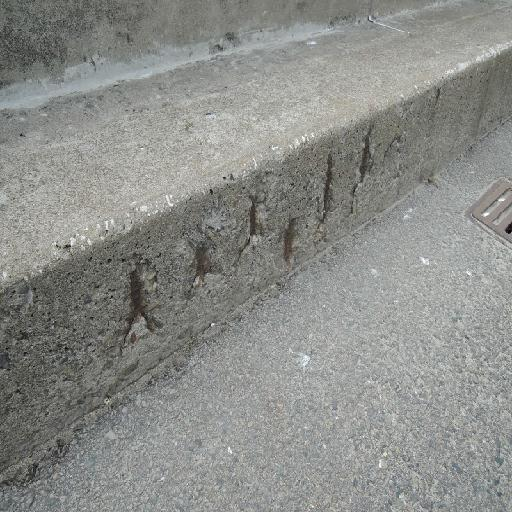exposed_rebar: (124, 271, 164, 338), (353, 137, 368, 210), (193, 240, 211, 288), (323, 151, 334, 220), (284, 218, 298, 270), (384, 135, 401, 162), (250, 199, 256, 236), (435, 88, 439, 107)
